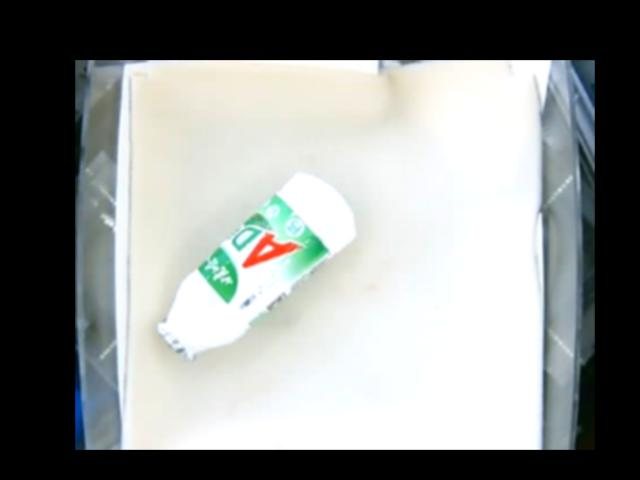Bottle: (154, 175, 354, 362)
